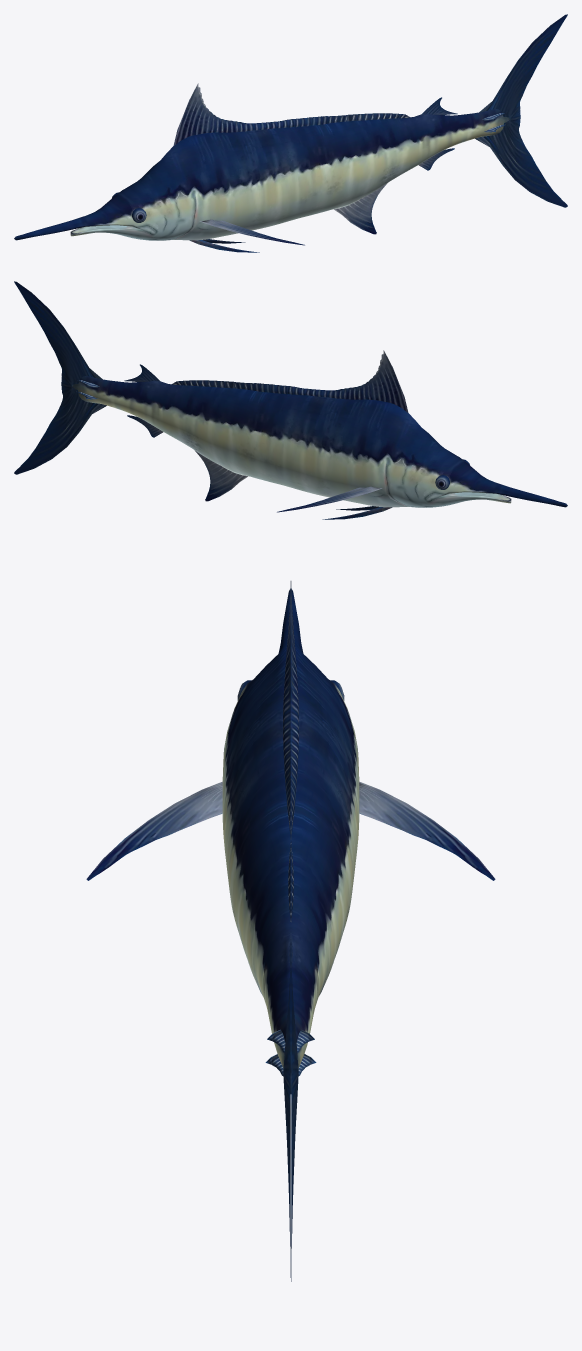
Rendered from swordfish.glb.
3 views of the same model, one above another, from view 1: azimuth 30°, elevation 25°; view 2: azimuth 150°, elevation 25°; view 3: azimuth 270°, elevation 25° (orthographic). The views are drawn at different scales.
Parts seen in each view (by area): view 1: Object_2; view 2: Object_2; view 3: Object_2.
Part boxes in pixels (bbox=[...]): Object_2: bbox=[14, 14, 567, 252]; Object_2: bbox=[14, 281, 567, 519]; Object_2: bbox=[86, 581, 495, 1281].
Bounding box in the file's own units: 4.55 × 1.68 × 1.45.
Materials: 1 (1 with a texture image).
